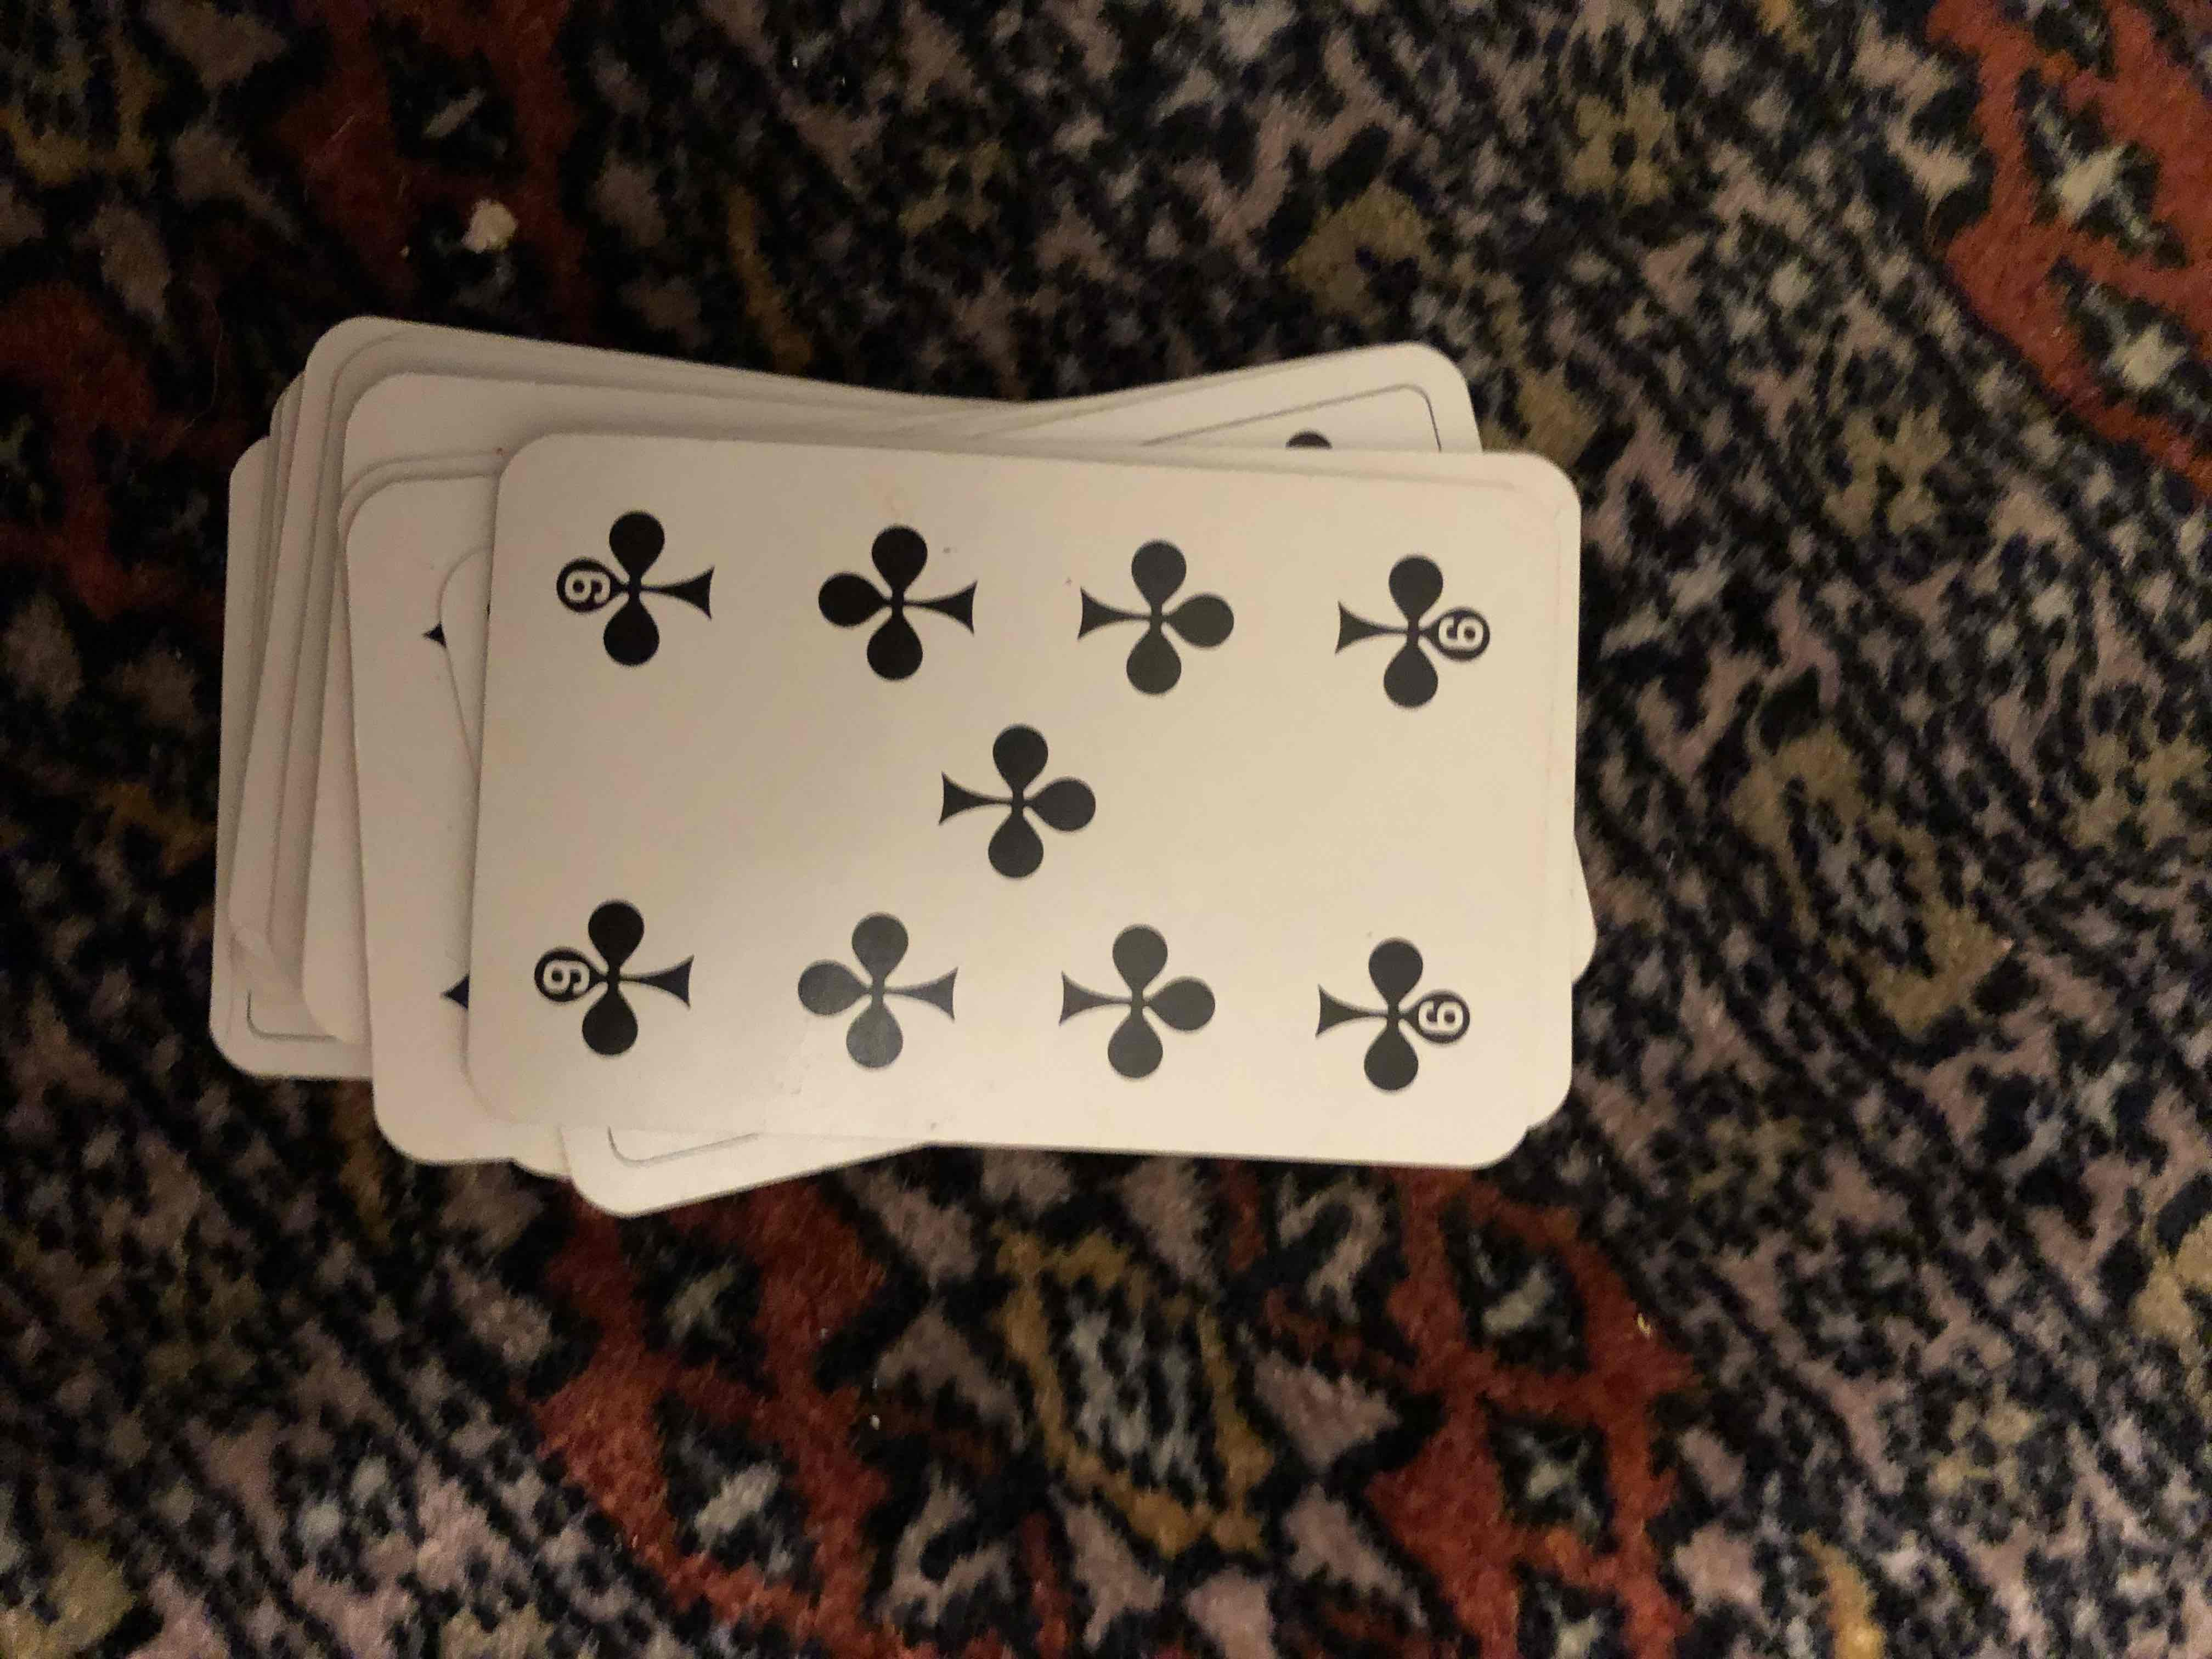clubs9: (493, 420, 1529, 1164)
